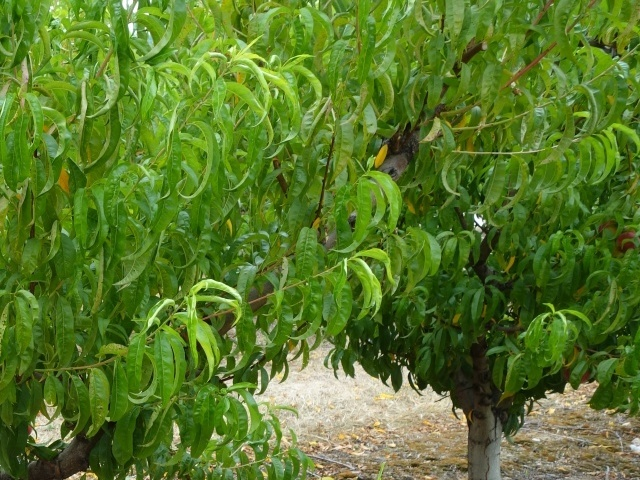peach: (614, 225, 639, 255), (563, 362, 592, 386)
